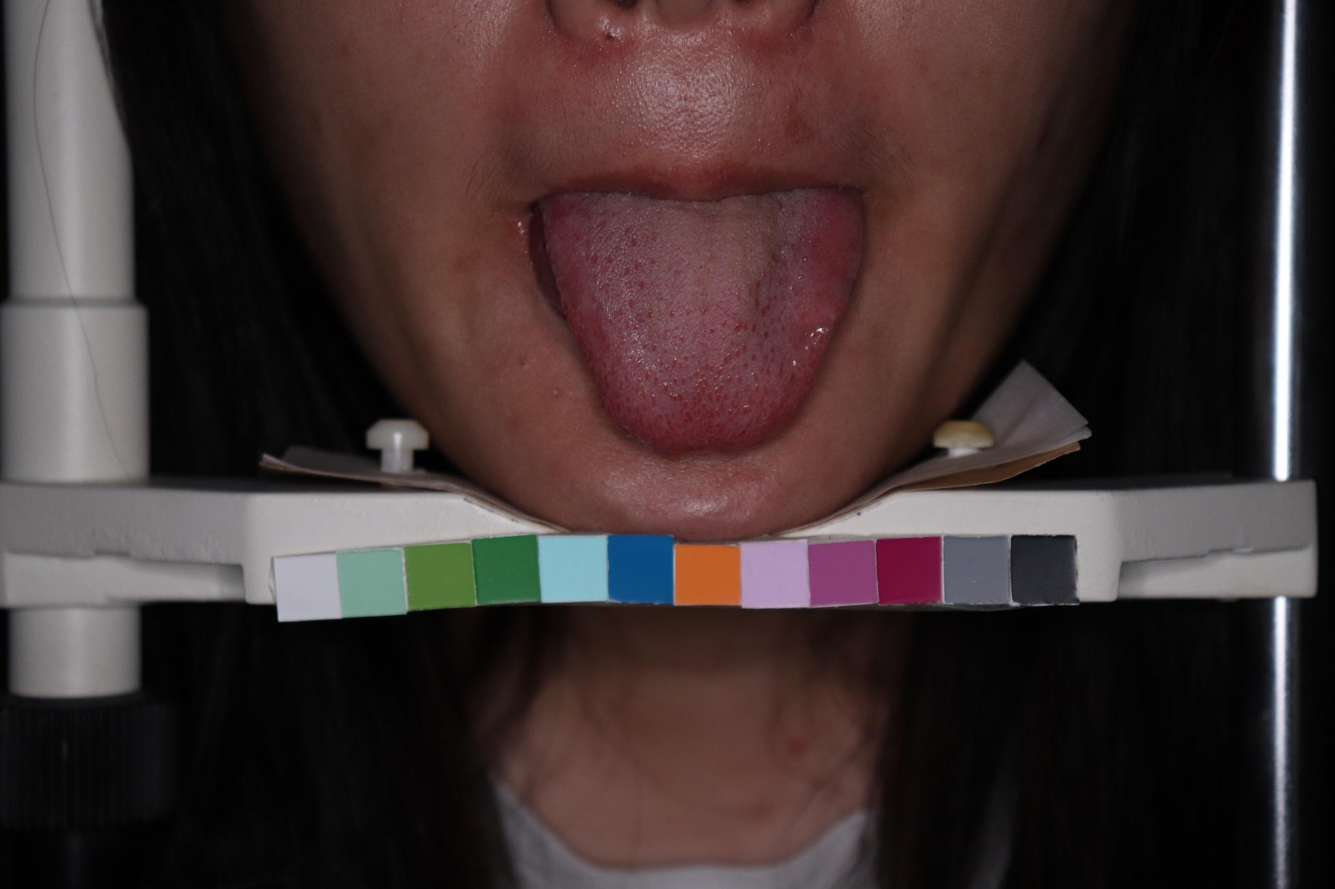baitaishe: (537, 187, 864, 460), (628, 234, 638, 247), (637, 278, 645, 291), (777, 361, 784, 375), (718, 316, 726, 327), (649, 393, 656, 405), (741, 341, 748, 353), (761, 329, 769, 339), (670, 356, 677, 366)
hongshe: (537, 187, 864, 460)
